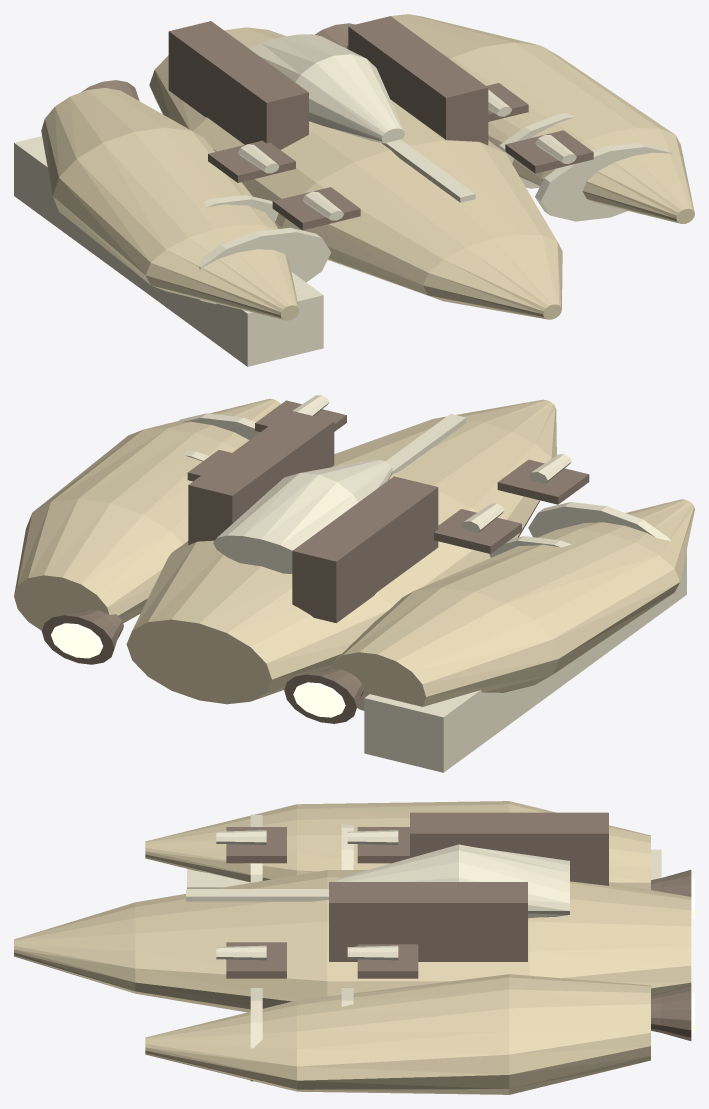
The picture shows the model from 3 angles, top to bottom: view 1: azimuth 30°, elevation 25°; view 2: azimuth 150°, elevation 25°; view 3: azimuth 270°, elevation 25°; orthographic projection. The views are drawn at different scales.
Bounding box in the file's own units: 7.58 × 2.16 × 8.22.
